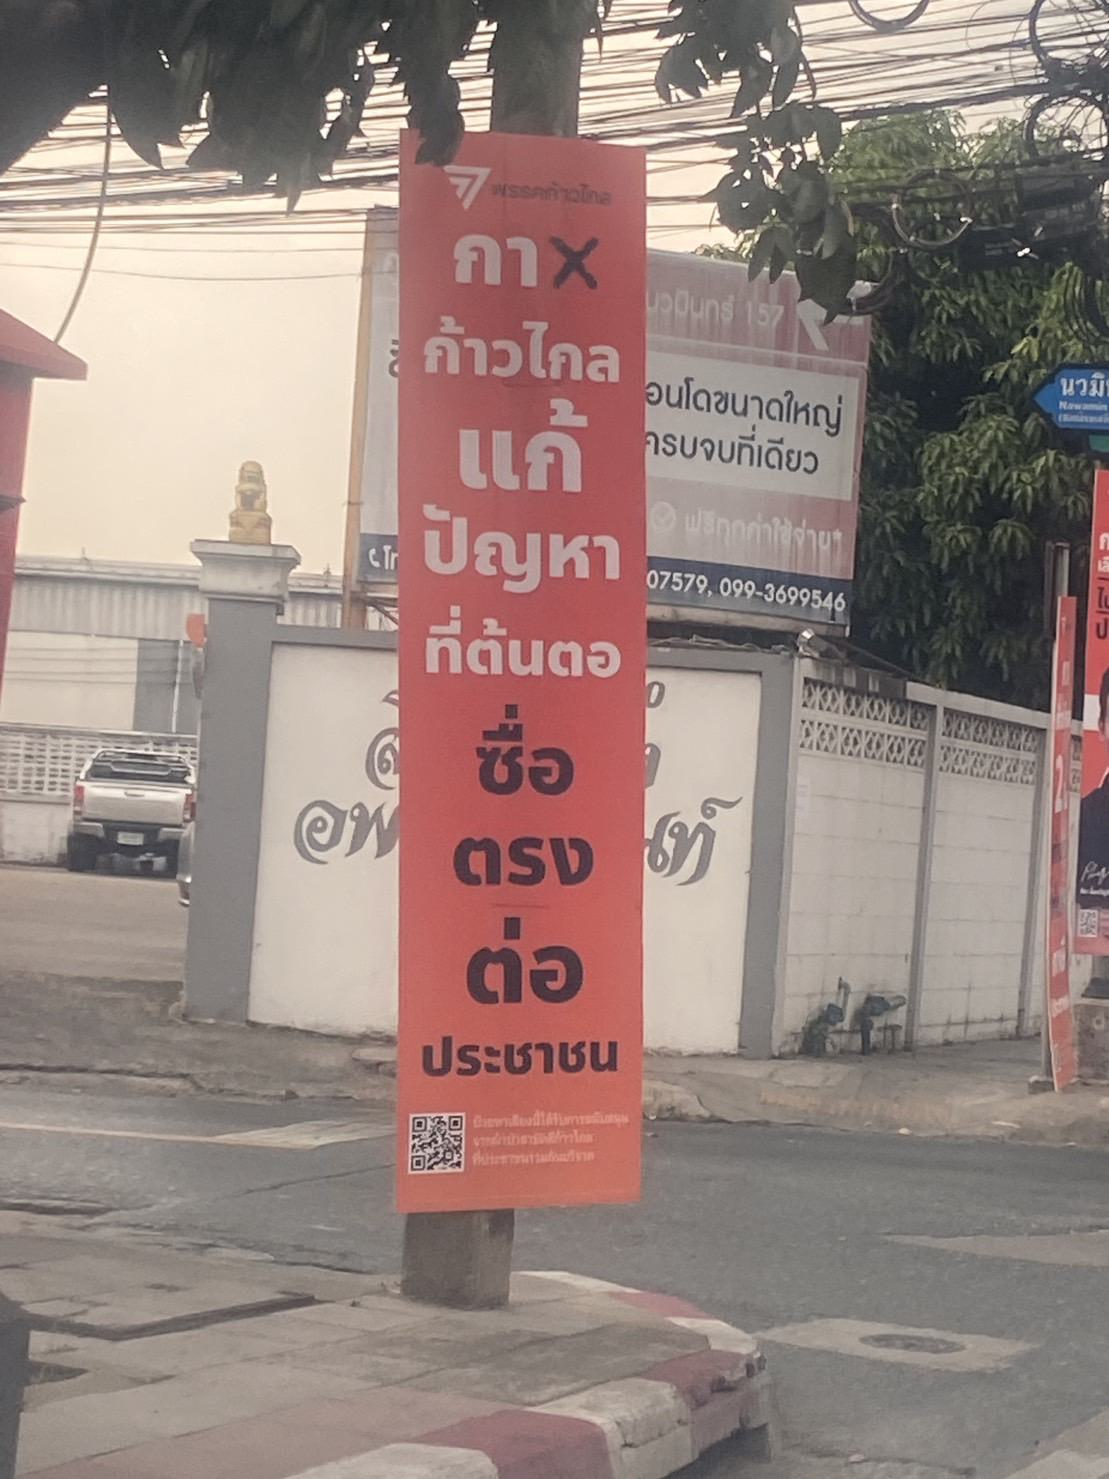Banner: (394, 123, 642, 1213)
